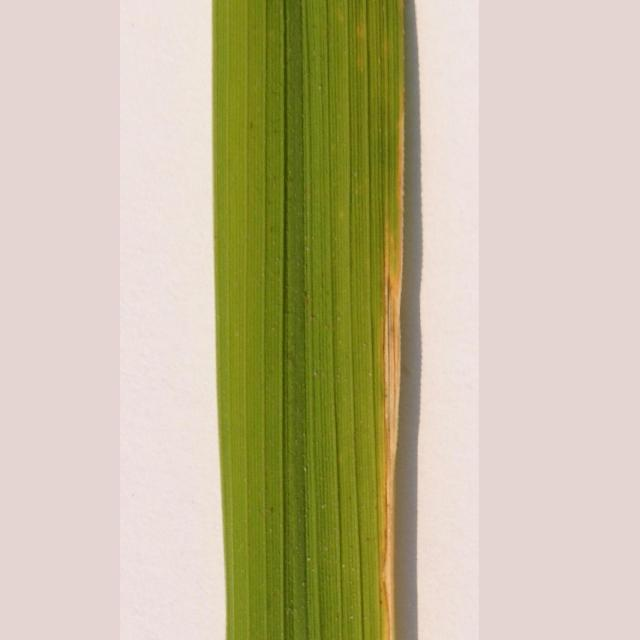leaf blight: (361, 111, 419, 640)
